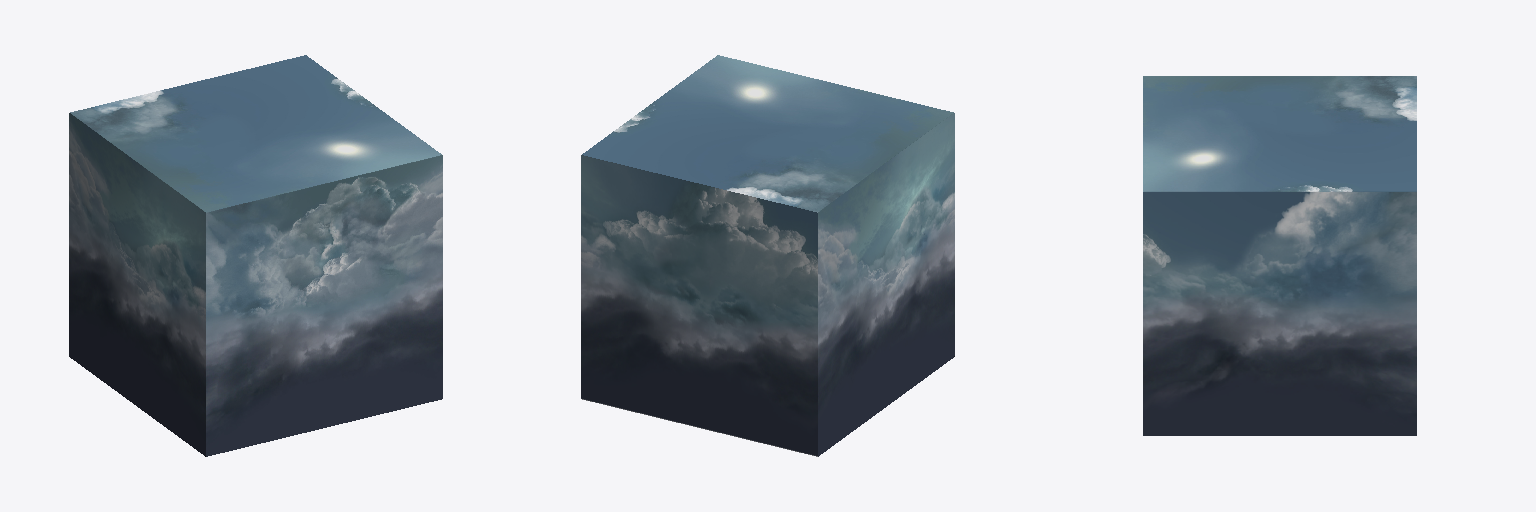
The picture shows the model from 3 angles: view 1: azimuth 30°, elevation 25°; view 2: azimuth 150°, elevation 25°; view 3: azimuth 270°, elevation 25°; orthographic projection.
Parts seen in each view (by area): view 1: Box01; view 2: Box01; view 3: Box01.
Boxes of the visible parts, x1=… form: Box01: x1=69, y1=55, x2=442, y2=456; Box01: x1=581, y1=55, x2=954, y2=456; Box01: x1=1143, y1=76, x2=1416, y2=435.
Bounding box in the file's own units: 39.84 × 39.34 × 39.84.
6 materials, 6 textured.